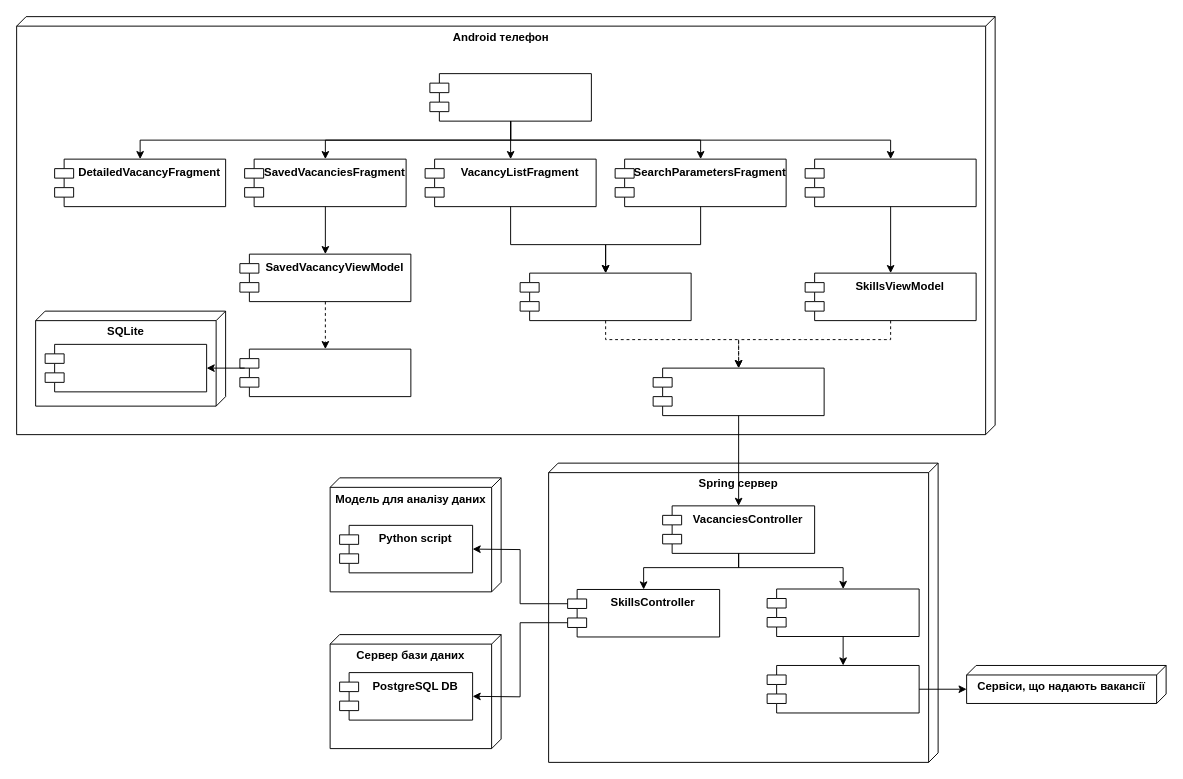
Image size: 1183x779. Some labels were removed from this diagram. Each missing label, with the centre of its shape:
"<<interface>> VacancyApiService" goes at [738,391].
"<<interface>> VacancyDao" goes at [325,372].
"ScrapeManager" goes at [842,612].
"Scrapers" goes at [842,689].
"SkillBasedSearchFragment" goes at [890,182].
"SQLite DB" goes at [125,367].
"VacancyViewModel" goes at [605,296].
"Взаємодія користувача з застосунком" goes at [510,97].
